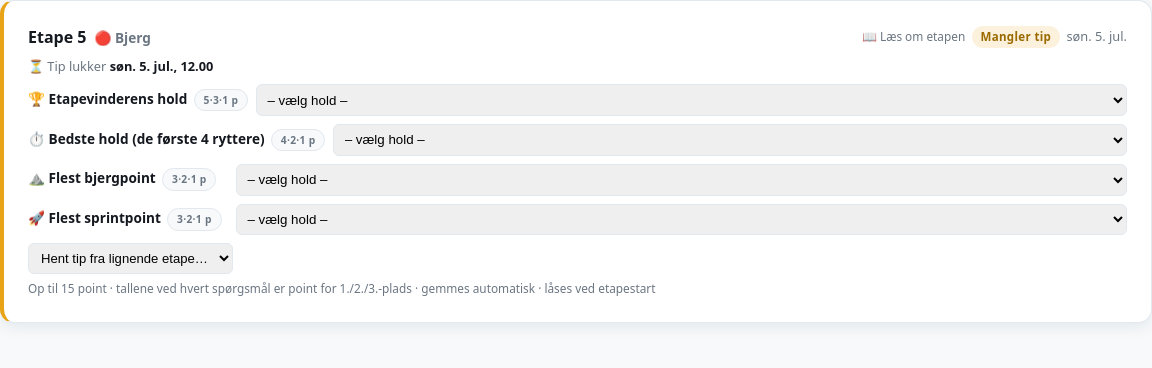
it: StageCard — Hent tip fra lignende etape › kopierer holdvalg fra den valgte lignende etape og gemmer
The image size is (1152, 368).
Select "Etape 9 · X → Y" in the dropdown with test id "copy-similar" at (130, 258), box 28,243 -> 233,274
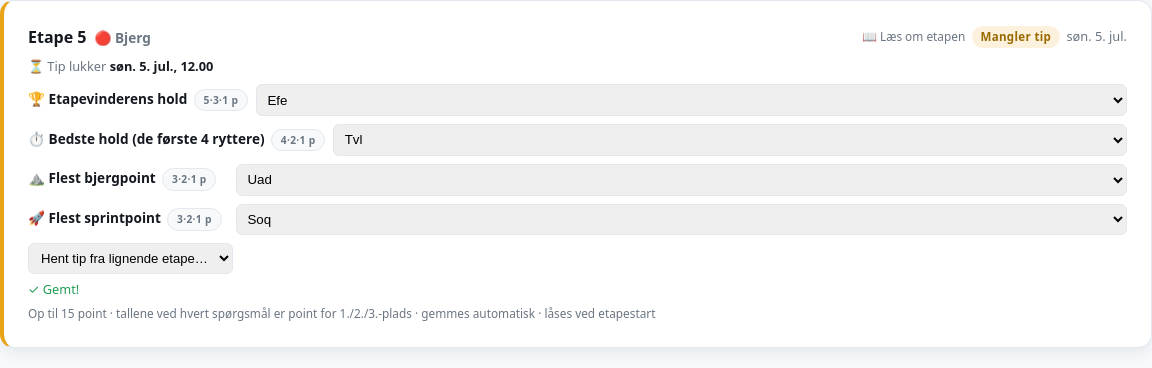
Expected: the dropdown with test id "pick-winnerTeam" shows "Efe", 256,84 -> 1127,116
Expected: the dropdown with test id "pick-gcTeam" shows "Tvl", 333,124 -> 1127,156
Expected: the dropdown with test id "pick-mountainTeam" shows "Uad", 236,164 -> 1127,196
